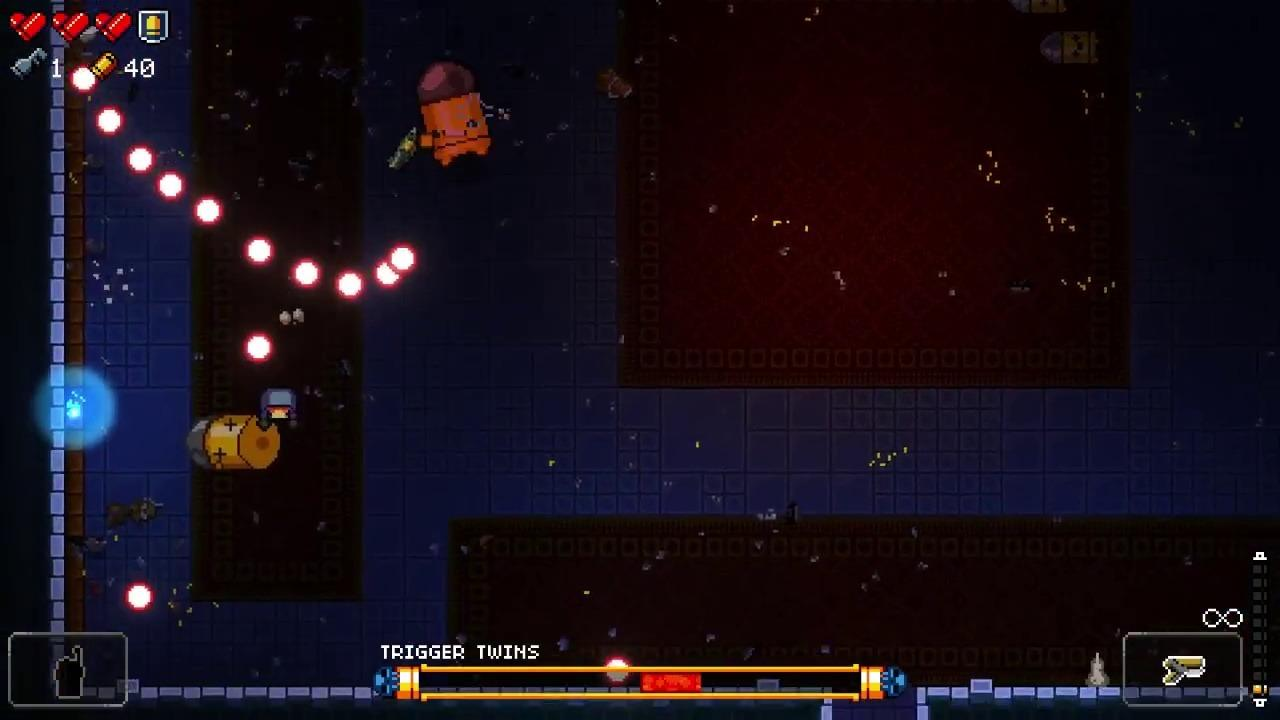boss_smiley: (418, 65, 493, 168)
bullet: (243, 331, 274, 362), (124, 581, 155, 611), (388, 244, 417, 274), (291, 260, 320, 289), (197, 199, 225, 229), (244, 236, 273, 264), (158, 172, 185, 202), (336, 271, 362, 301), (126, 147, 156, 173), (376, 263, 407, 288), (98, 108, 122, 139), (72, 65, 96, 95)
dead_boss_shades: (187, 416, 282, 470)
dead_bullet_kin: (1039, 33, 1098, 67)
player: (257, 388, 297, 426)
